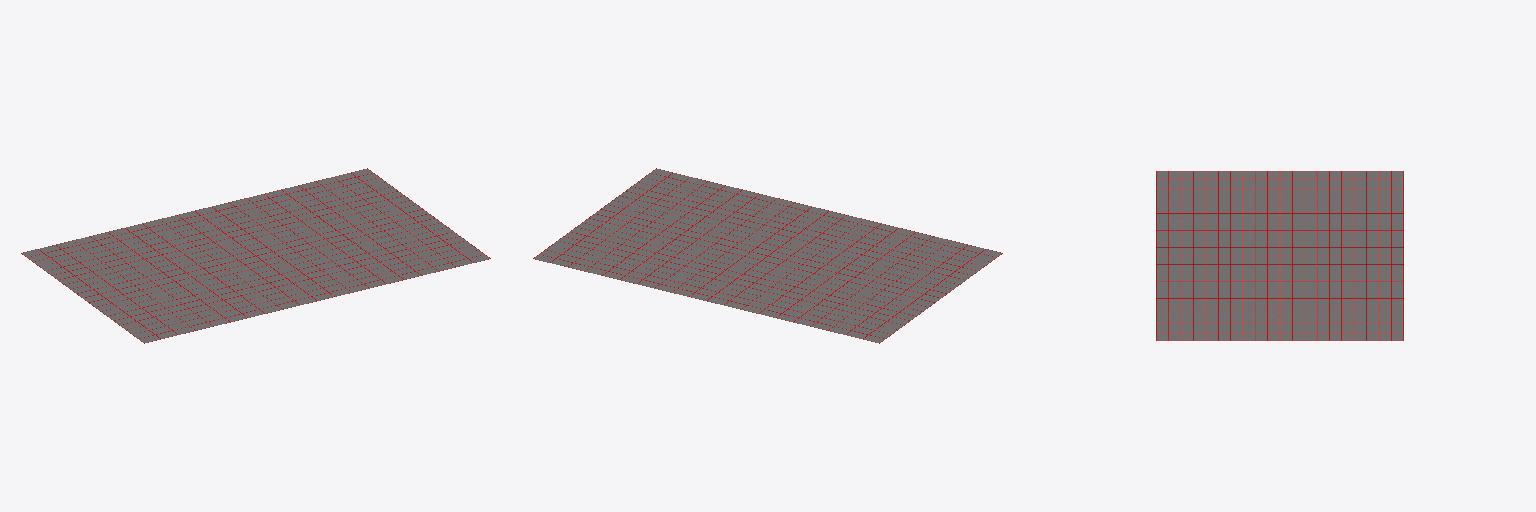
The picture shows the model from 3 angles: view 1: azimuth 30°, elevation 25°; view 2: azimuth 150°, elevation 25°; view 3: azimuth 270°, elevation 25°; orthographic projection.
Parts seen in each view (by area): view 1: place; view 2: place; view 3: place.
Part boxes in pixels (x1,y1,x2,y2): place: (21,168,490,343); place: (533,168,1002,343); place: (1156,171,1403,340).
Bounding box in the file's own units: 411 × 0 × 254.
1 materials, 1 textured.